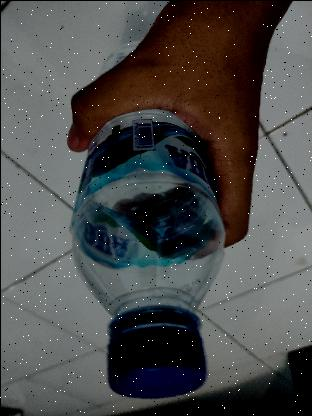Plastic Bottle: (60, 32, 234, 400)
